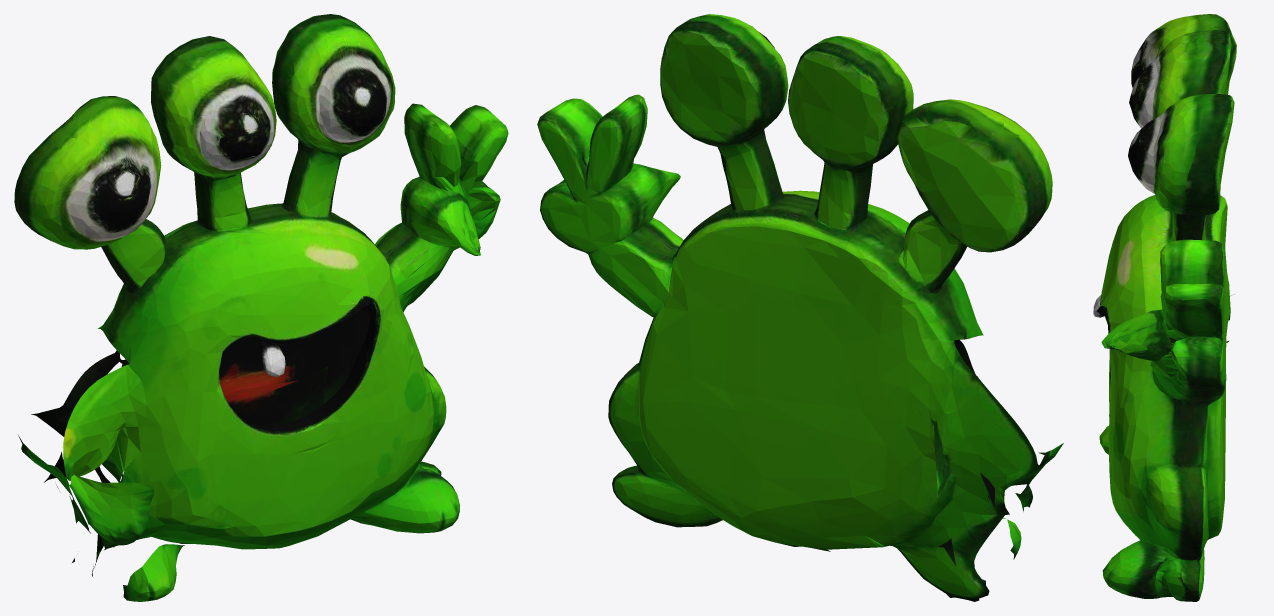
The model's file is char-Blip.glb.
3 renders of one model, left to right at view 1: azimuth 30°, elevation 25°; view 2: azimuth 150°, elevation 25°; view 3: azimuth 270°, elevation 25°, orthographic. The views are drawn at different scales.
Parts seen in each view (by area): view 1: geometry_0; view 2: geometry_0; view 3: geometry_0.
Part boxes in pixels (x1,y1,x2,y2): geometry_0: [14, 14, 508, 601]; geometry_0: [537, 14, 1063, 601]; geometry_0: [1093, 14, 1236, 601].
Size of the model in its own units: 0.9727 by 0.9869 by 0.312.
1 material, 1 textured.
